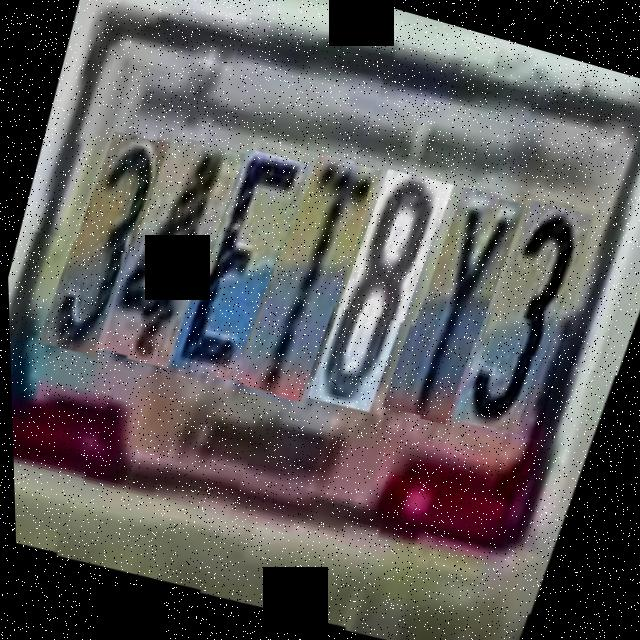3: (452, 190, 600, 440), (37, 126, 179, 366)
4: (94, 130, 250, 378)
8: (307, 160, 460, 420)
E: (167, 143, 317, 391)
T: (235, 146, 391, 408)
Y: (384, 179, 532, 430)
